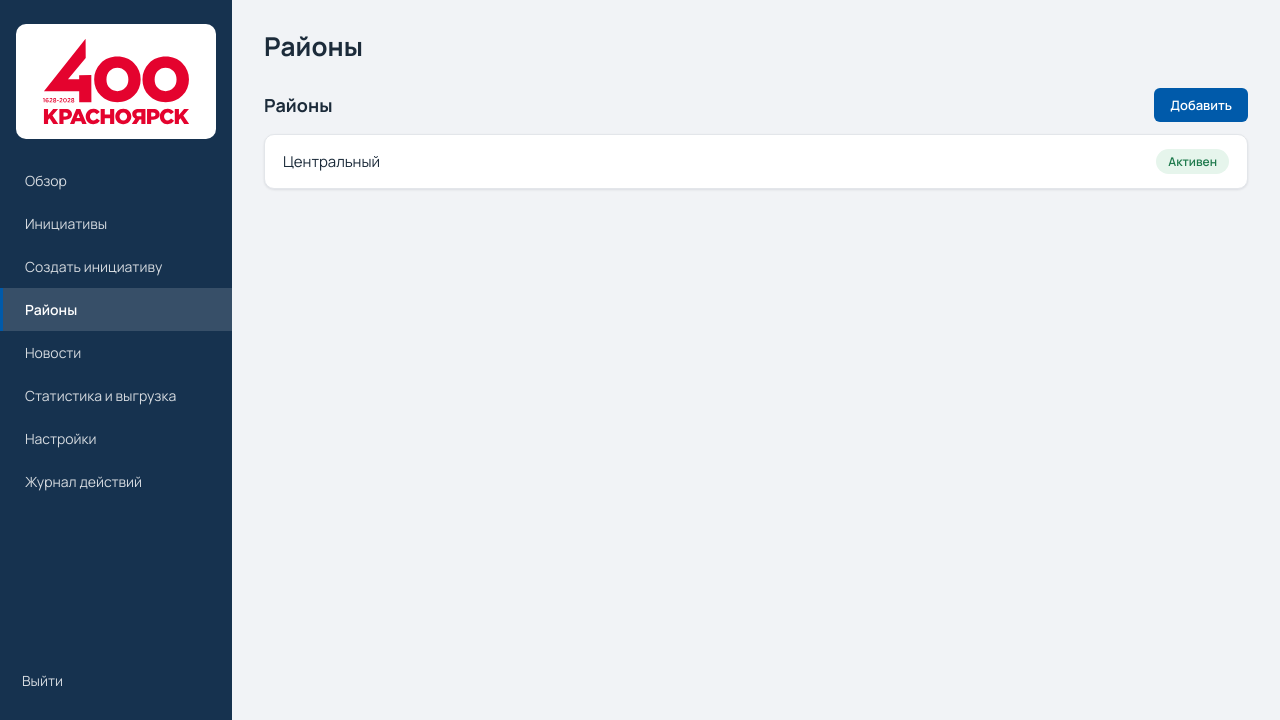
Scenario: admin taxonomy screen › shows a human-readable error when the backend rejects creation
The width and height of the screenshot is (1280, 720).
Expected: the text "Центральный" is shown, top-left (283, 151), bottom-right (380, 172)
Click the button "Добавить" at {"x": 1201, "y": 105}, box top-left (1154, 88), bottom-right (1248, 122)
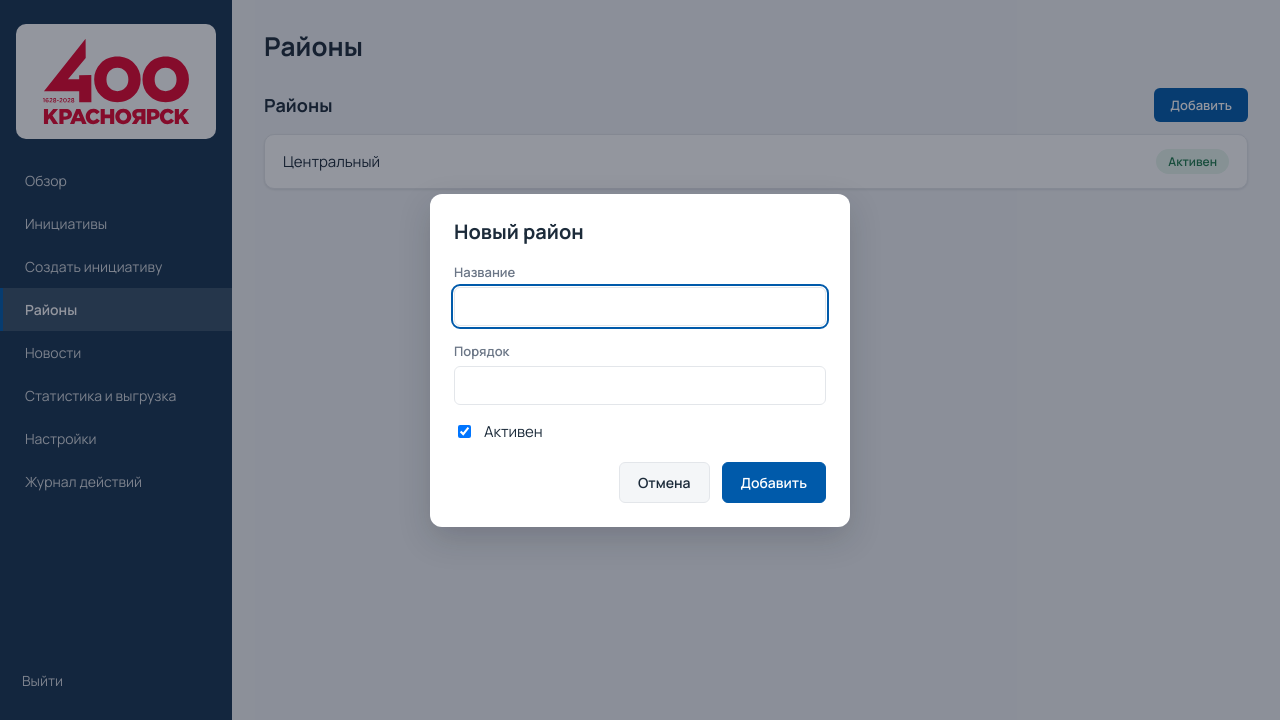
Type "Конфликтный район" into the field labelled "Название" at {"x": 640, "y": 306}, box top-left (454, 286), bottom-right (826, 326)
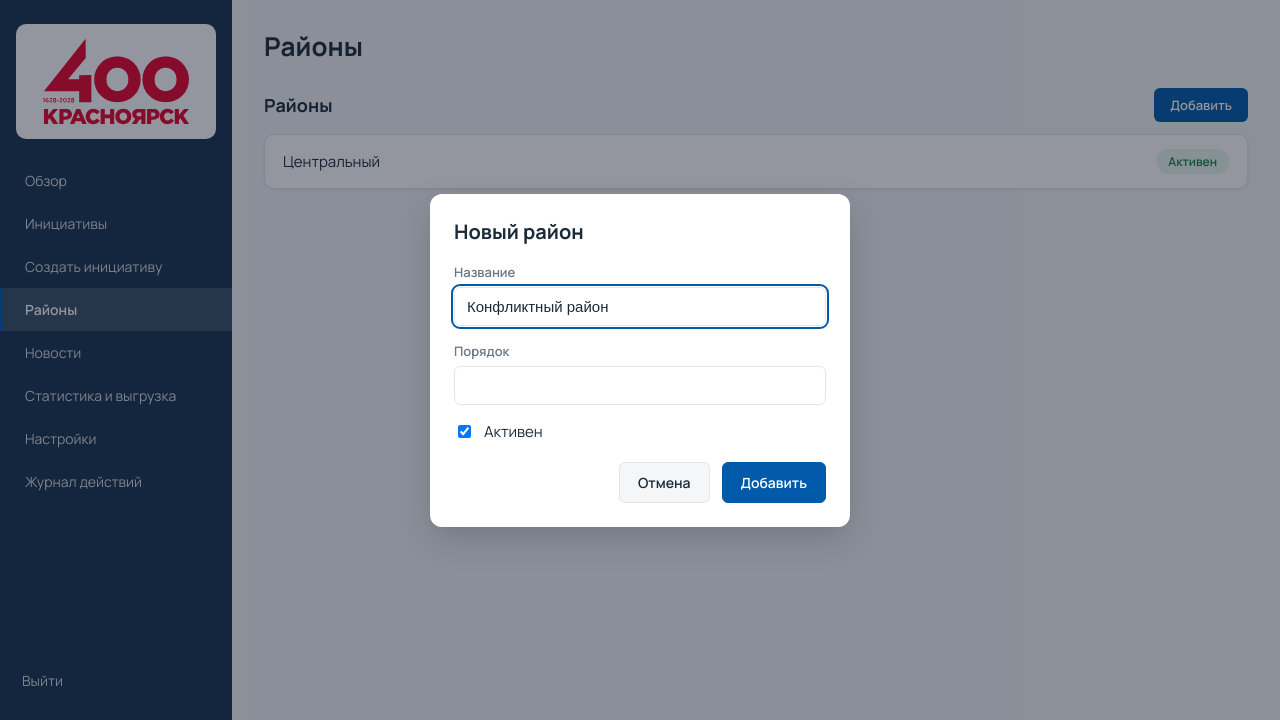
Click the button "Добавить" at {"x": 774, "y": 482}, box top-left (722, 462), bottom-right (826, 502)
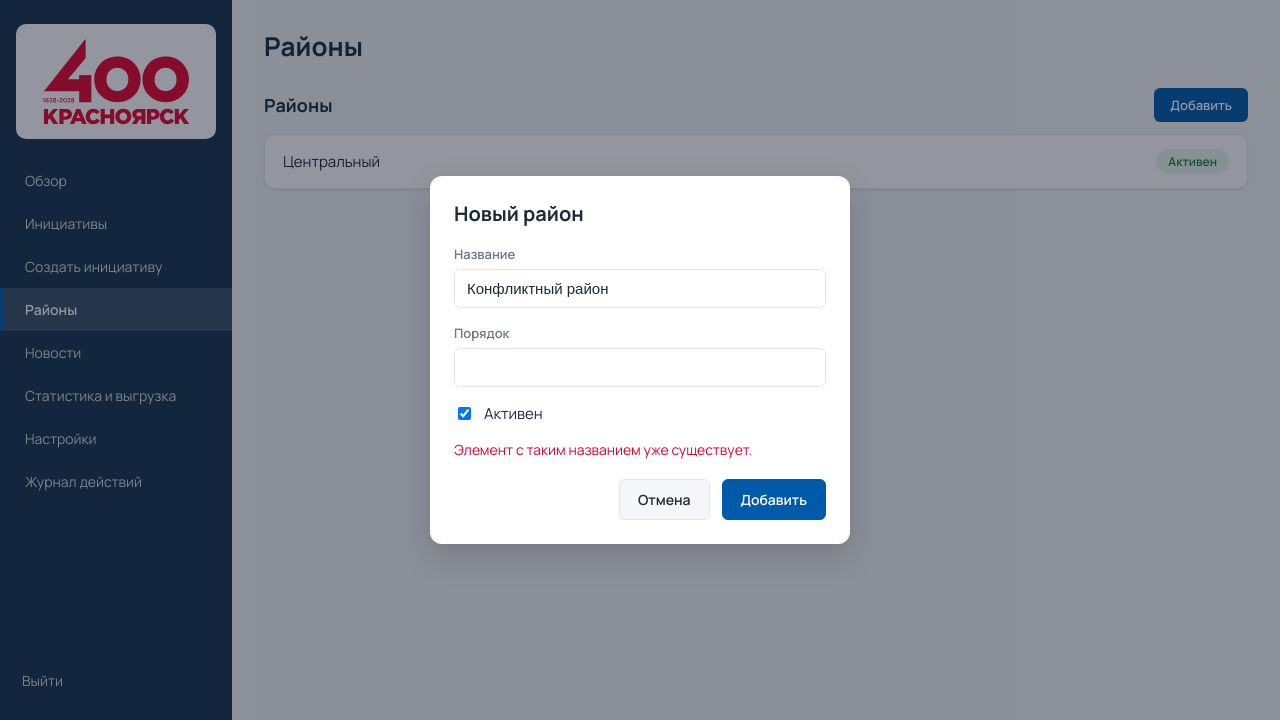
Now the message reads "Элемент с таким названием уже существует.", box top-left (454, 440), bottom-right (752, 459)
